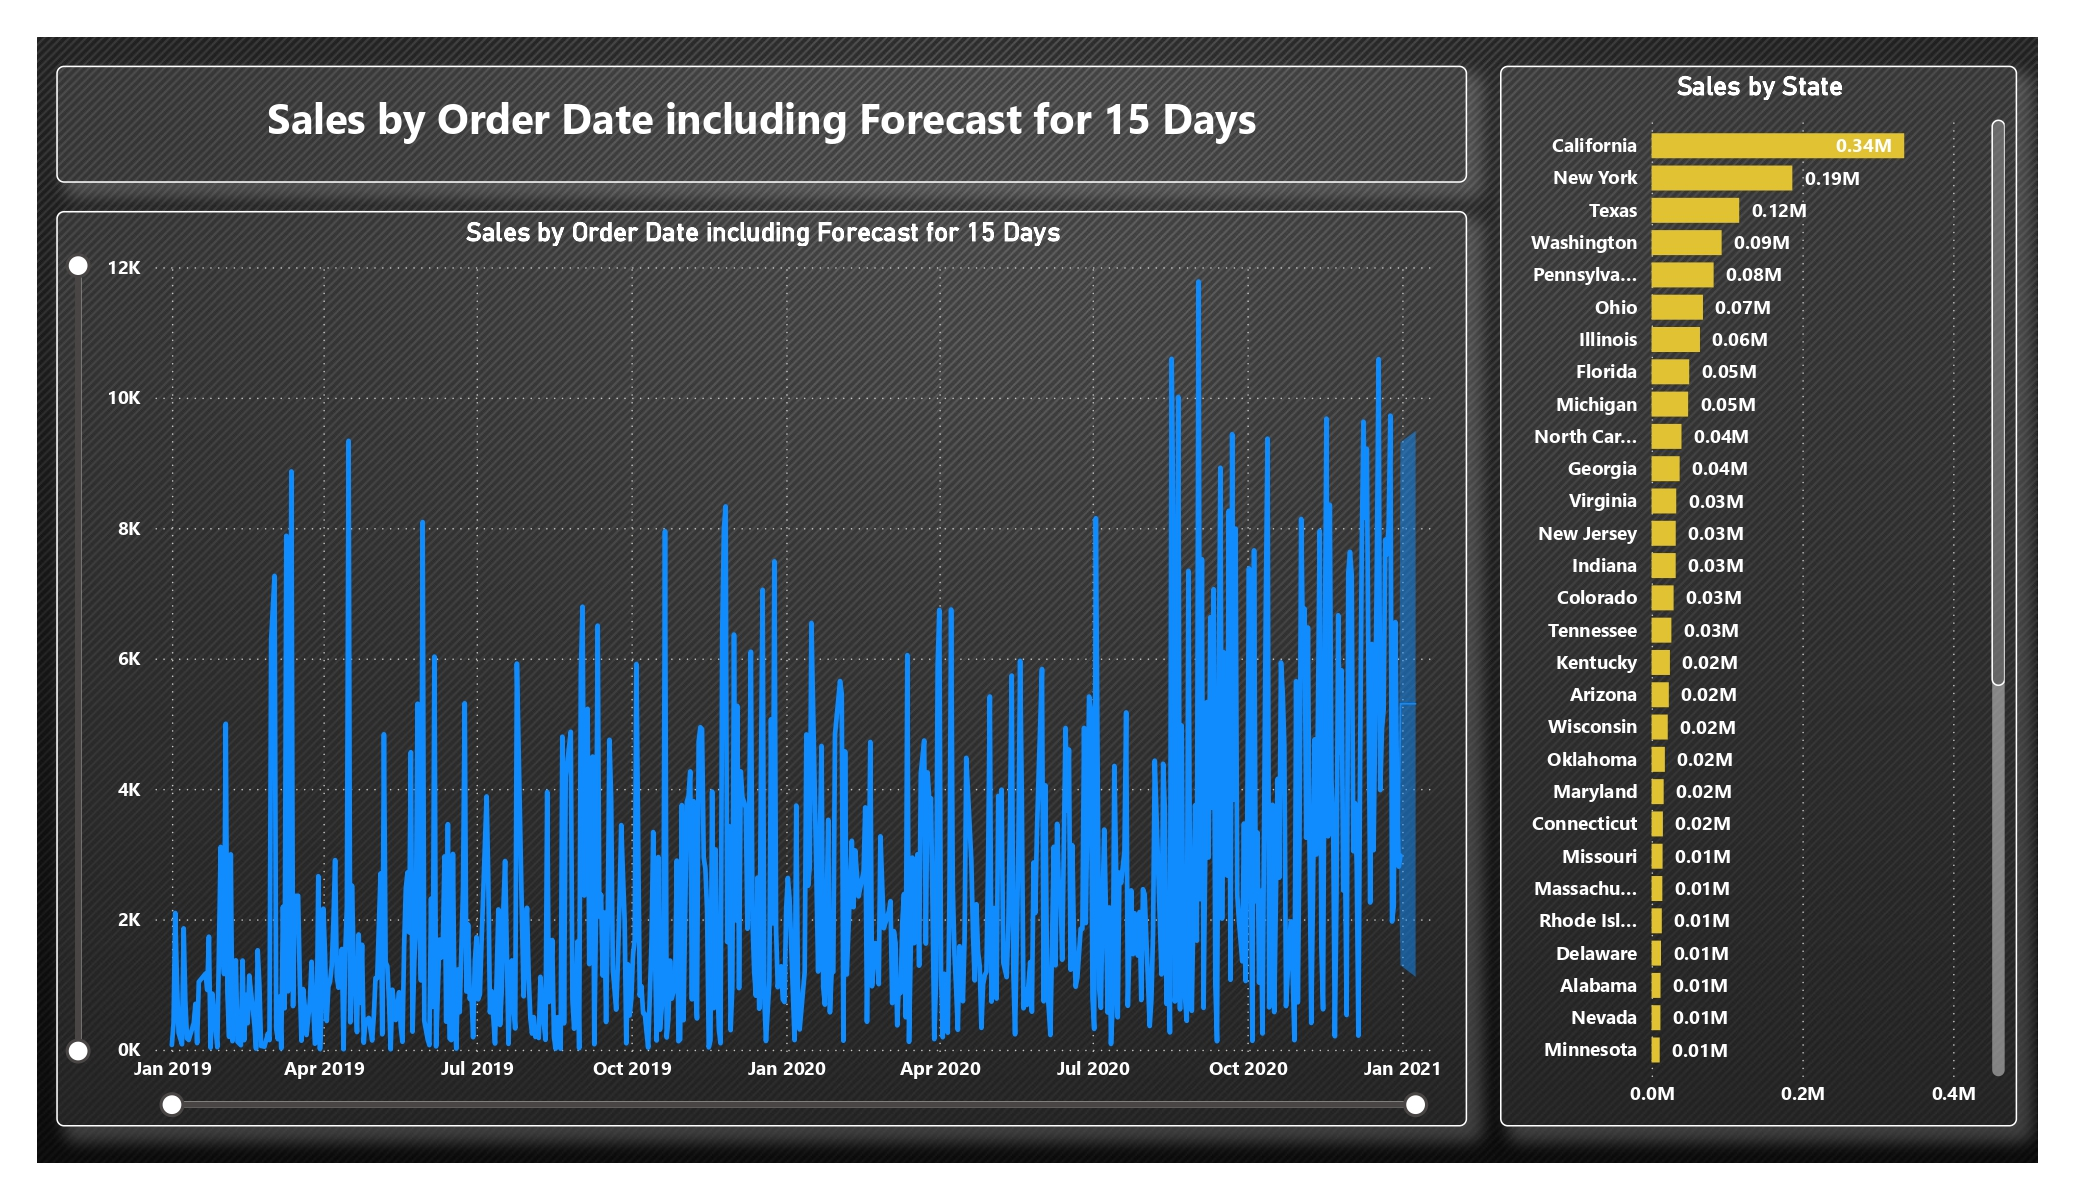

Layout of this report page (visuals, bound fields, positions):
{"tool":"powerbi","page":{"name":"Sales Forecast","canvas":[1280,720],"ordinal":1},"visuals":[{"type":"lineChart","title":"Sales by Order Date including Forecast for 15 Days","fields":{"Y":["Sum(superstore_sales_data.Sales)"],"Category":["superstore_sales_data.Order Date"]},"box":[12.3,111.1,902.9,585.9],"z":0},{"type":"barChart","title":"Sales by State","fields":{"Y":["Sum(superstore_sales_data.Sales)"],"Category":["superstore_sales_data.State"]},"box":[935.9,17.8,330.7,679.2],"z":1000},{"type":"textbox","box":[12.3,17.8,902.9,75.5],"z":2000}]}

Visuals, with their boxes in screenshot pixels (x1, y1, x2, y2):
"Sales by Order Date including Forecast for 15 Days" lineChart: bbox=[57, 211, 1468, 1127]
"Sales by State" barChart: bbox=[1500, 65, 2017, 1127]
textbox: bbox=[57, 65, 1468, 183]
